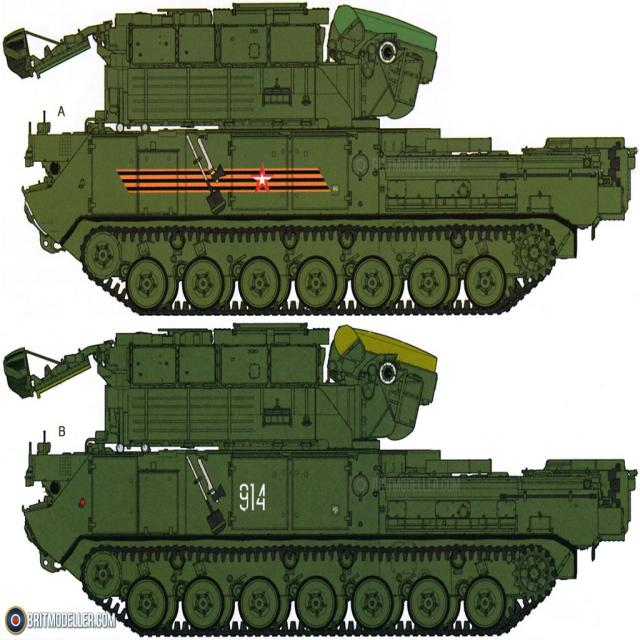MIL_EW_RDR: (4, 10, 640, 318), (4, 326, 633, 636)
